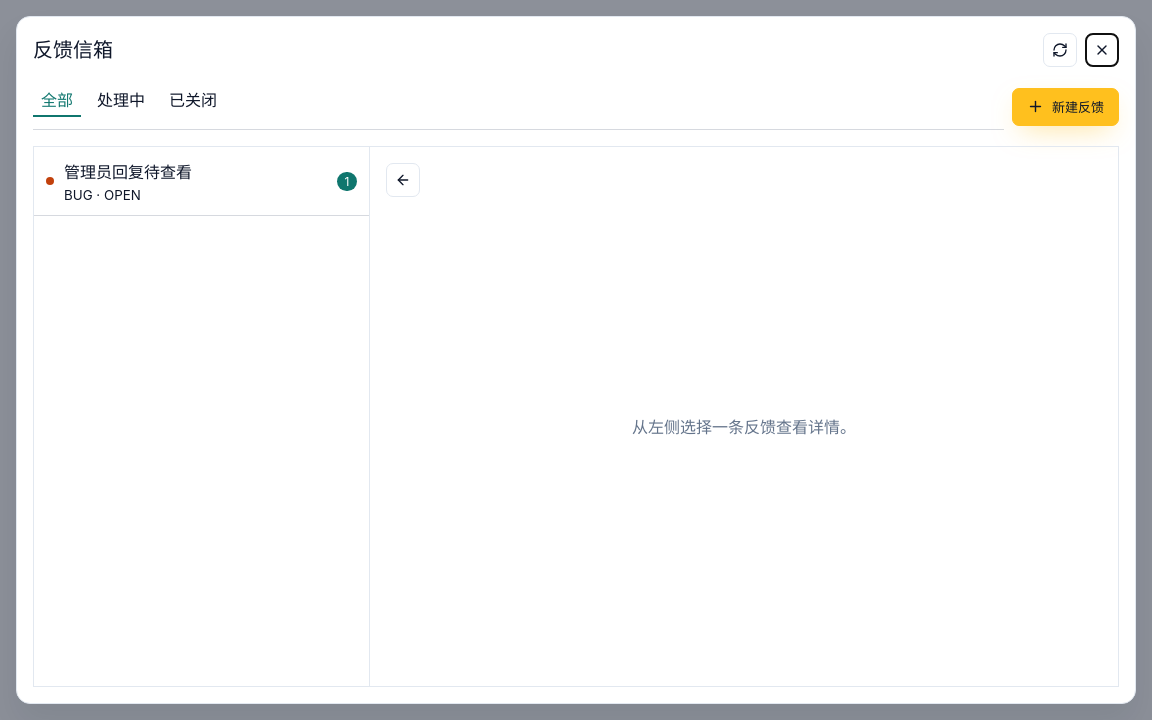
Test: UserFeedbackDialog › creates feedback in the same dialog and selects the new conversation
Expected: the text "管理员回复待查看" is shown, [64, 162, 192, 182]
Click the button "新建反馈" at (1066, 106), box [1012, 88, 1119, 126]
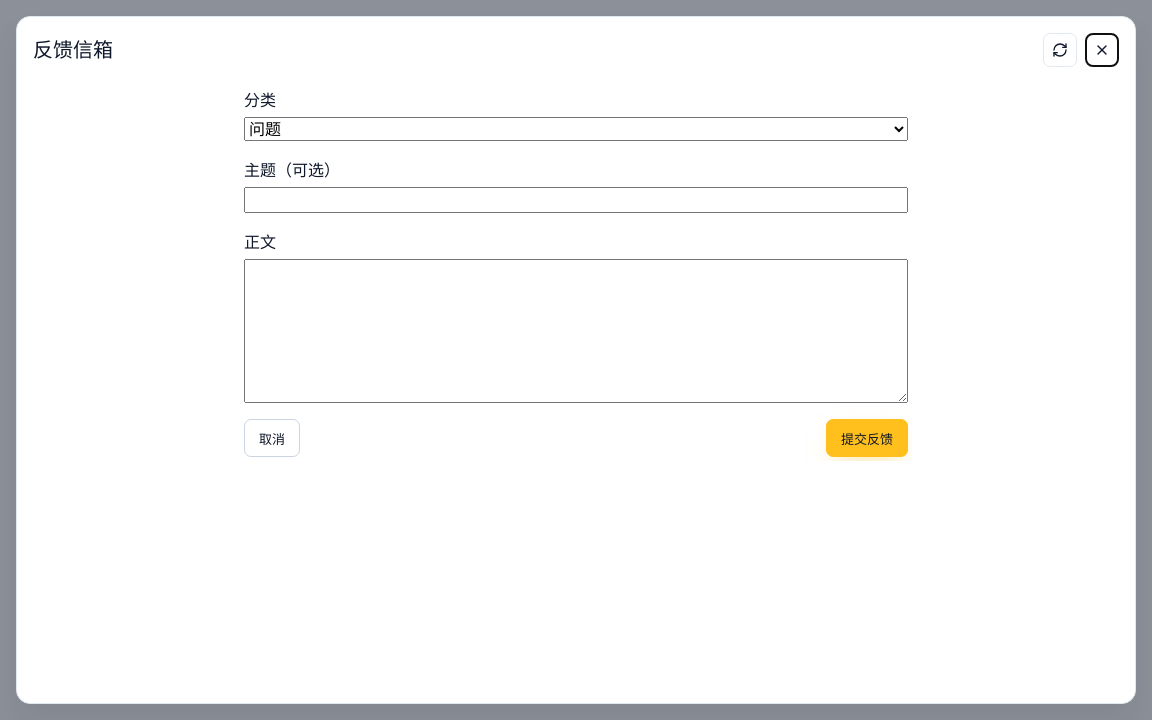
Type "新建会话" into the field labelled "主题（可选）" at (576, 200), box [244, 187, 908, 213]
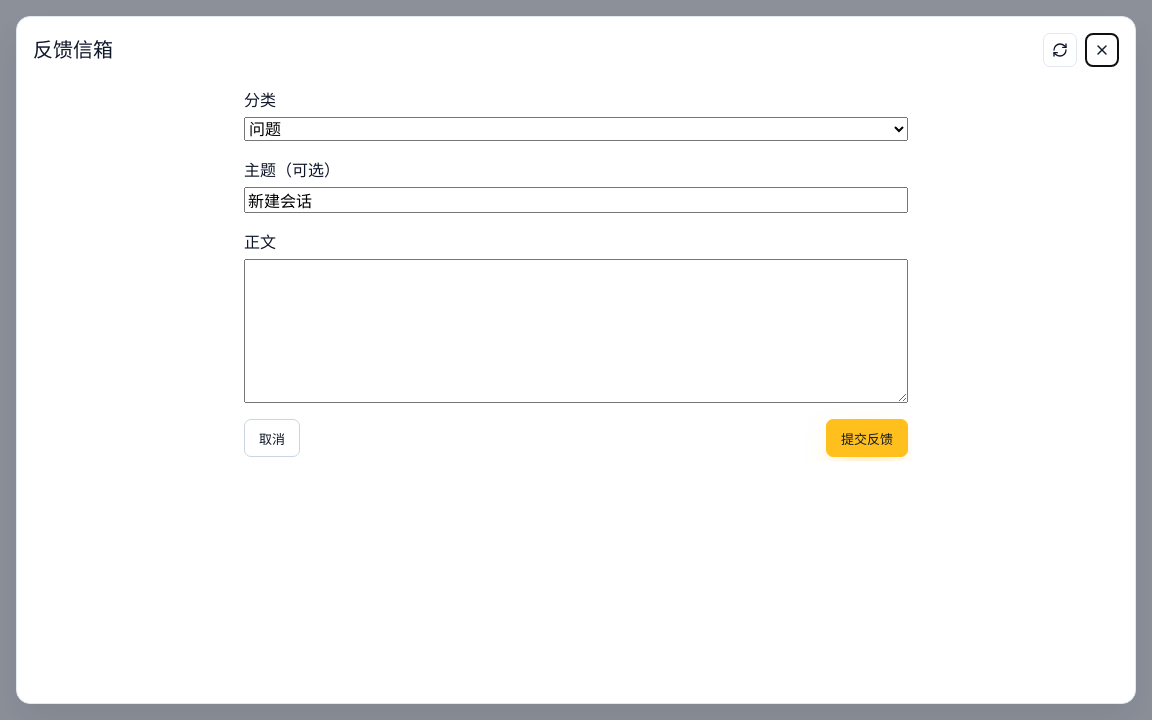
Type "新反馈正文" into the text box labelled "正文" at (576, 331), box [244, 259, 908, 403]
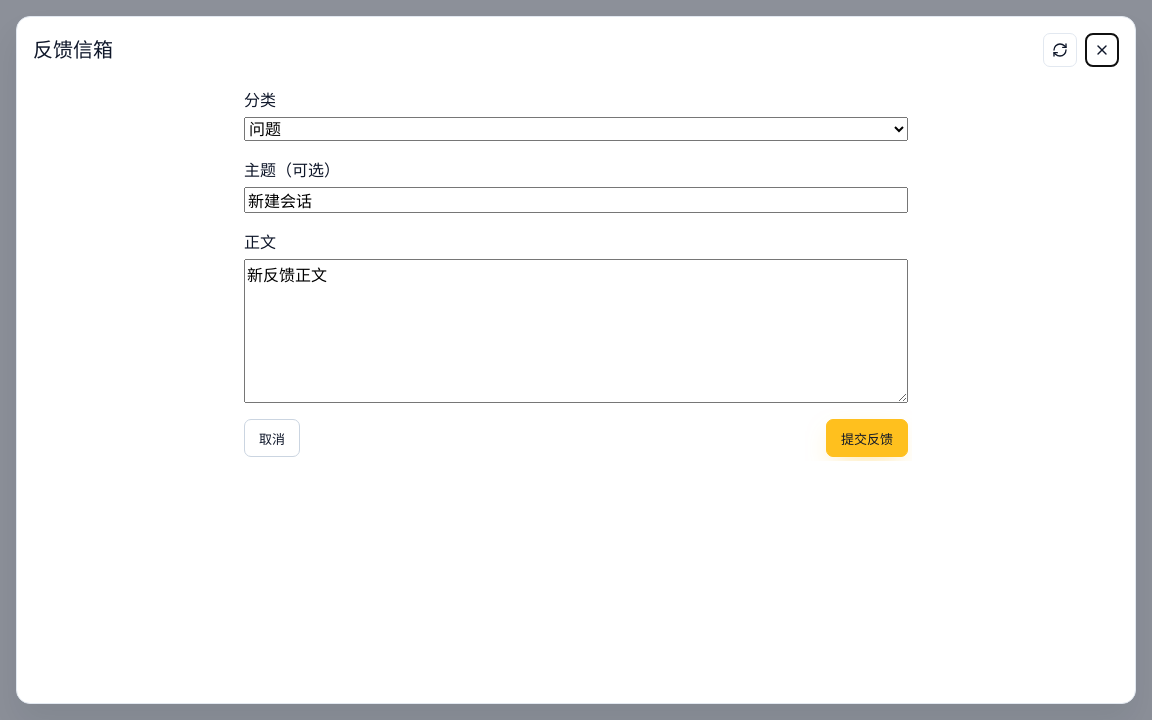
Click the button "提交反馈" at (867, 438), box [826, 419, 908, 457]
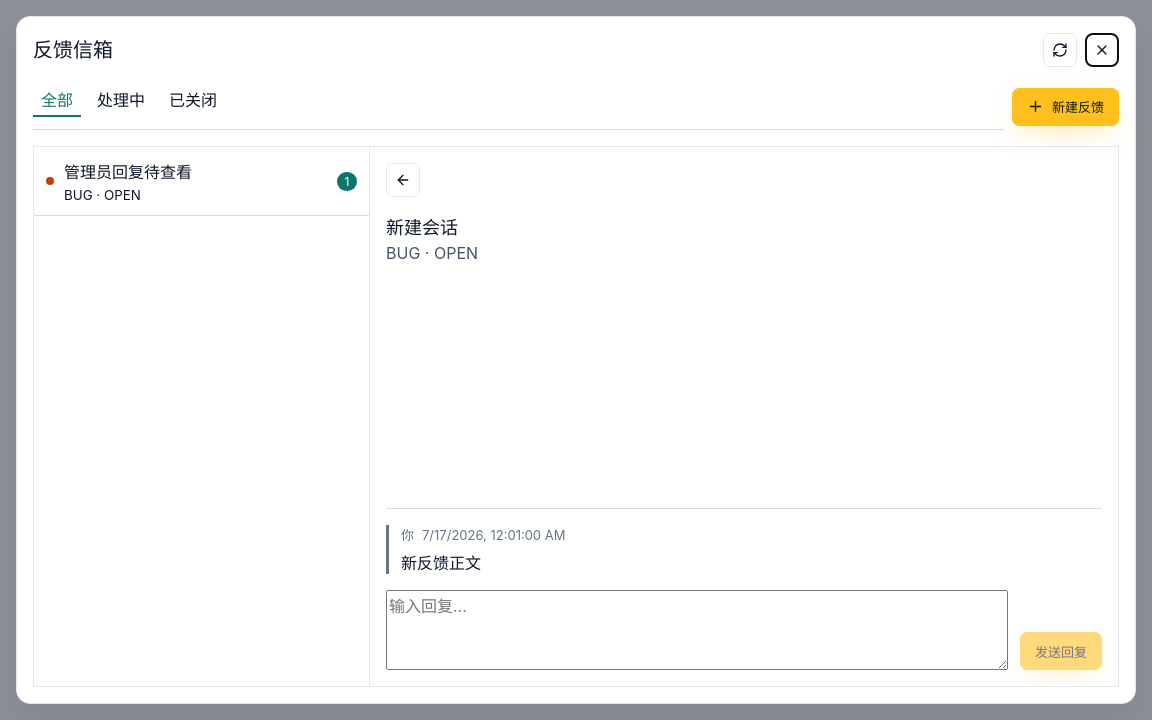
Expected: the heading "新建会话" is shown, [386, 217, 458, 238]
